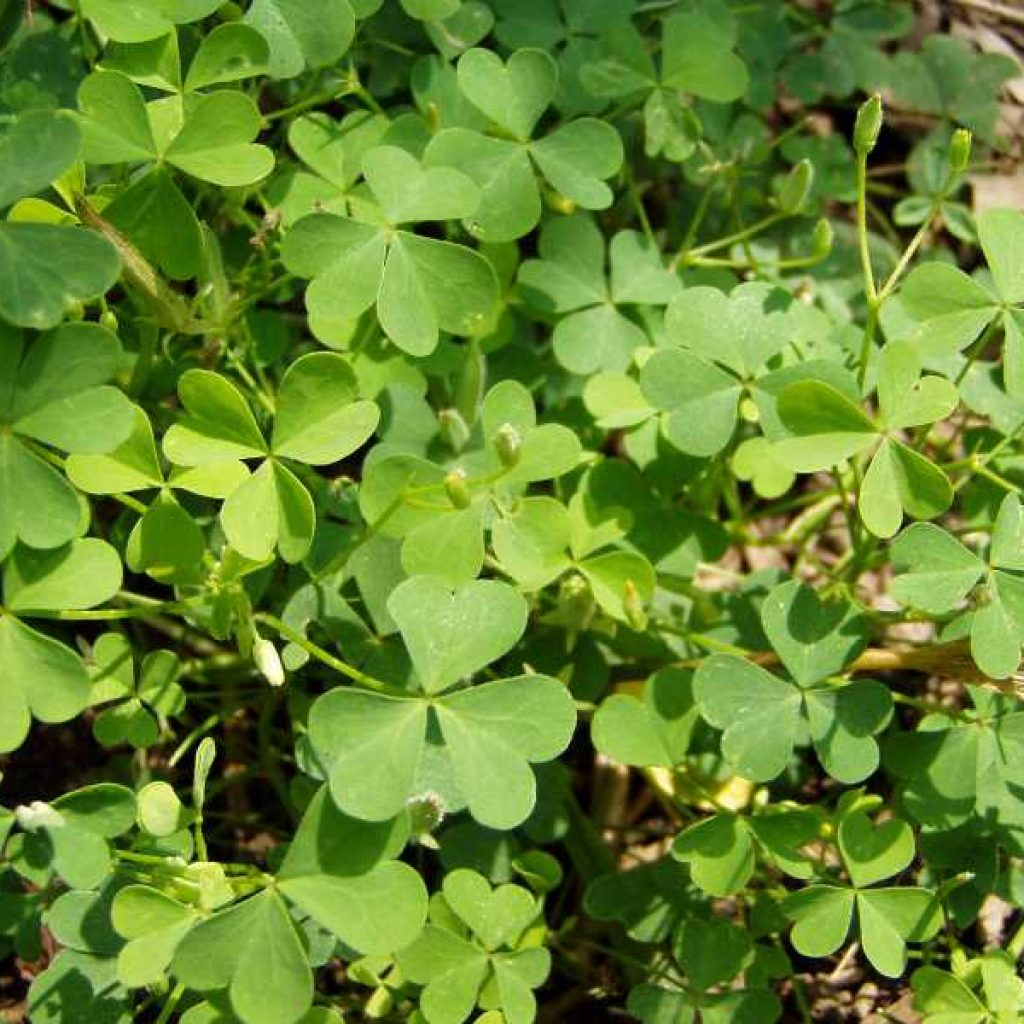oxalis: (60, 65, 1000, 979)
